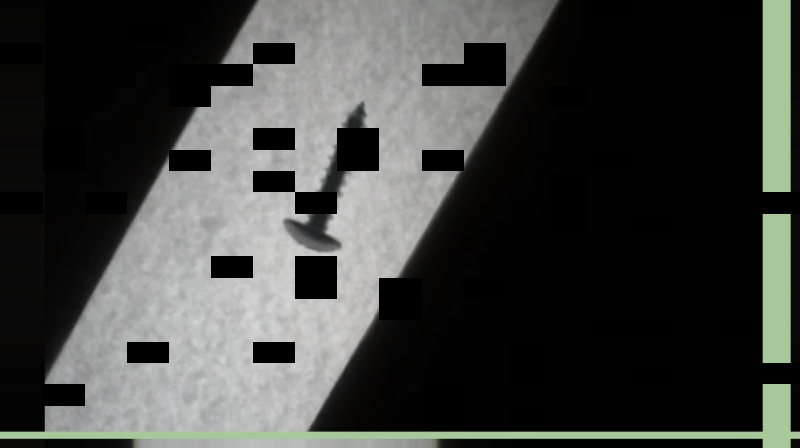S003: (279, 100, 367, 254)
